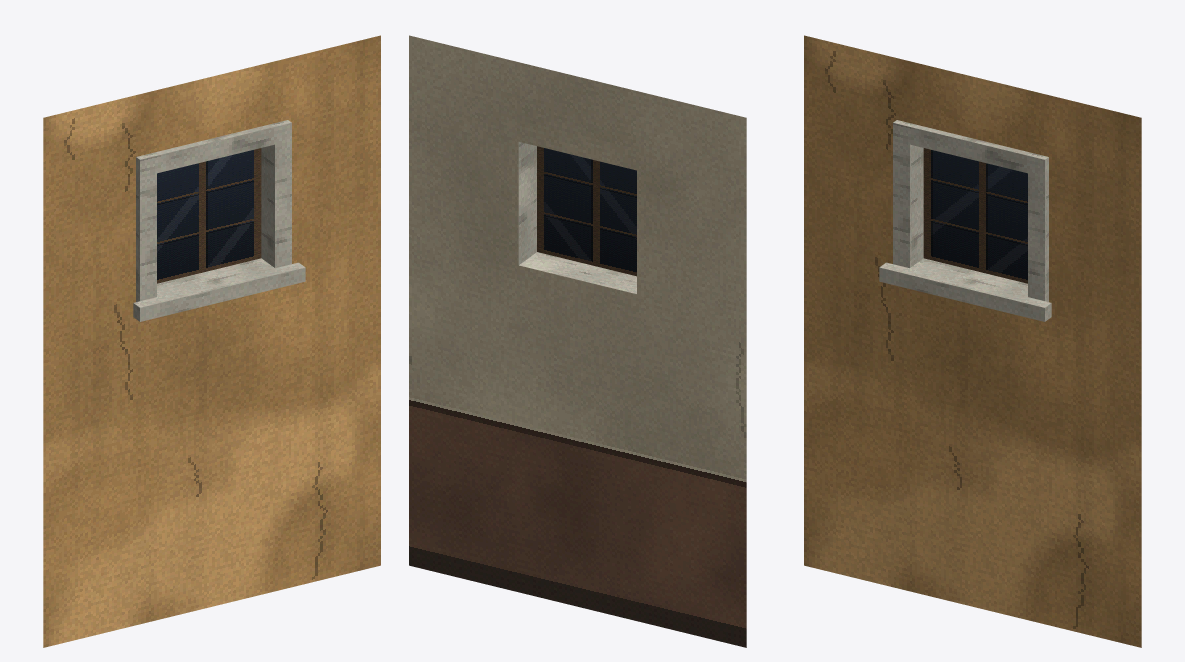
Rendered from ext_window_high.gltf.
3 renders of one model, left to right at view 1: azimuth 30°, elevation 25°; view 2: azimuth 150°, elevation 25°; view 3: azimuth 330°, elevation 25°, orthographic.
Visible parts, largest first — view 1: ext_window_high; view 2: ext_window_high; view 3: ext_window_high.
Boxes of the visible parts, left/top/right/bottom form: ext_window_high: left=43, top=35, right=380, bottom=647; ext_window_high: left=409, top=35, right=746, bottom=647; ext_window_high: left=804, top=35, right=1141, bottom=647.
Size of what is drawn, in the model's own units: 2 by 3 by 0.41.
Materials: 4 (4 with a texture image).
